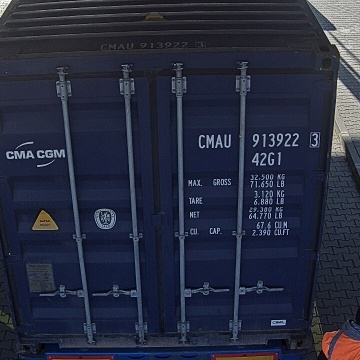serial_id: (197, 132, 321, 149)
